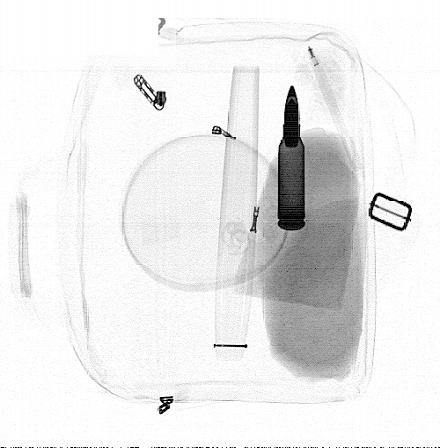Bullet: (278, 82, 306, 232)
